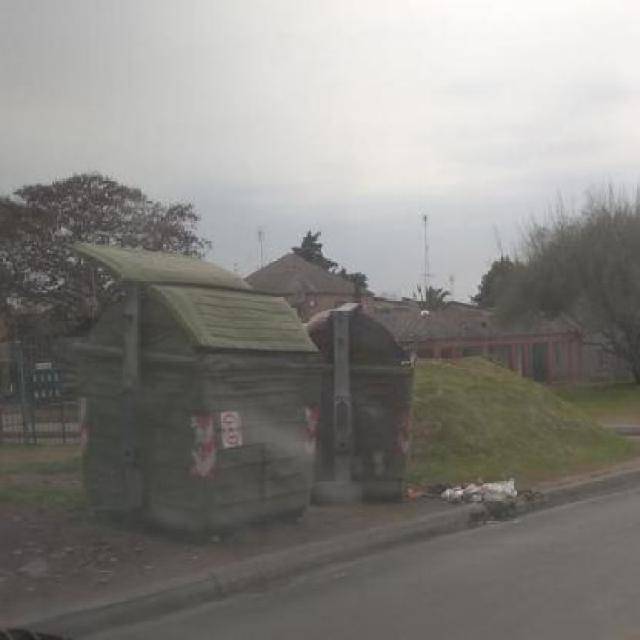garbage: (400, 472, 538, 520)
